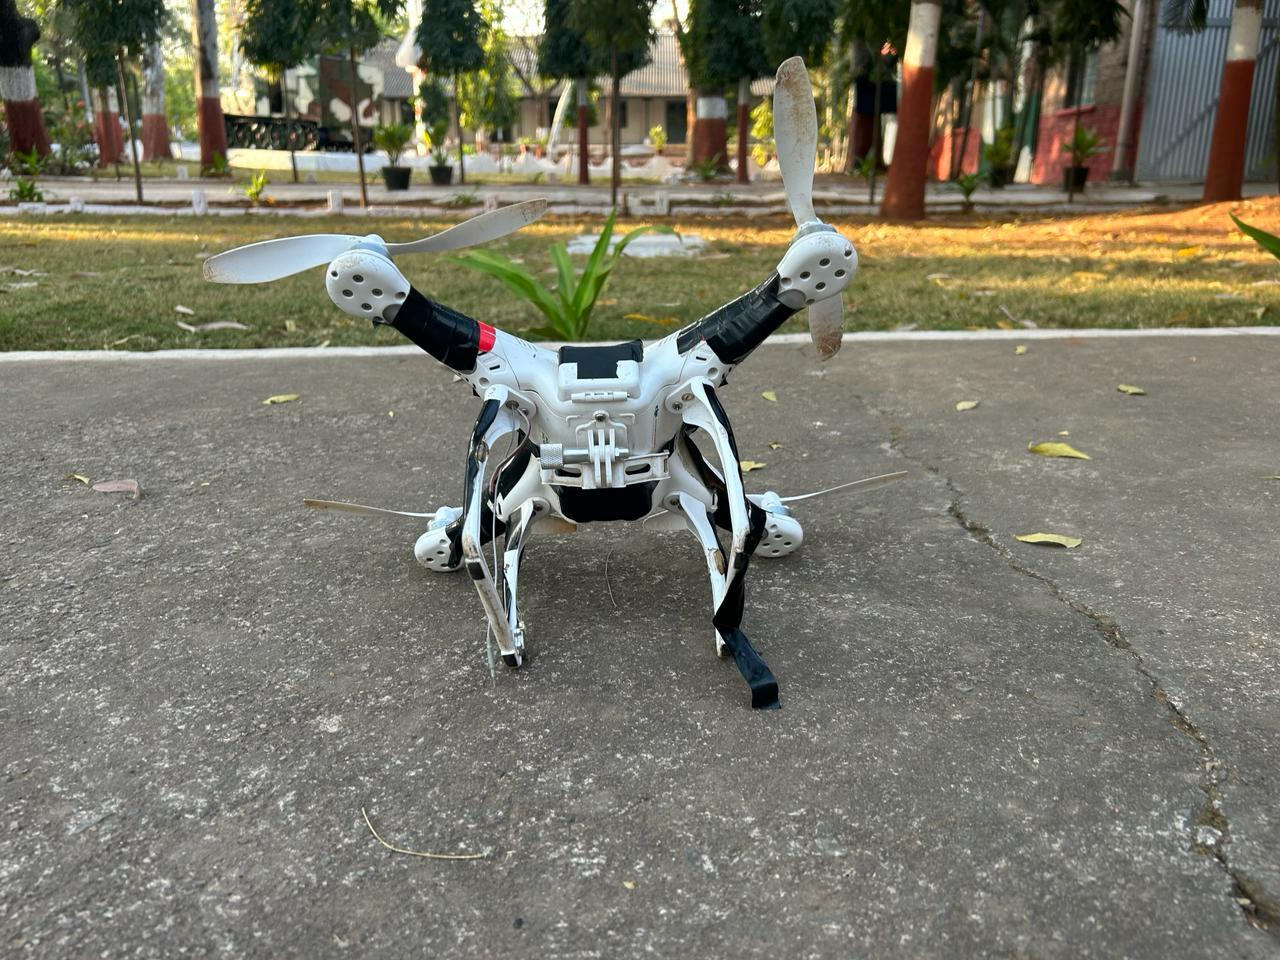drone: (146, 140, 1007, 756)
